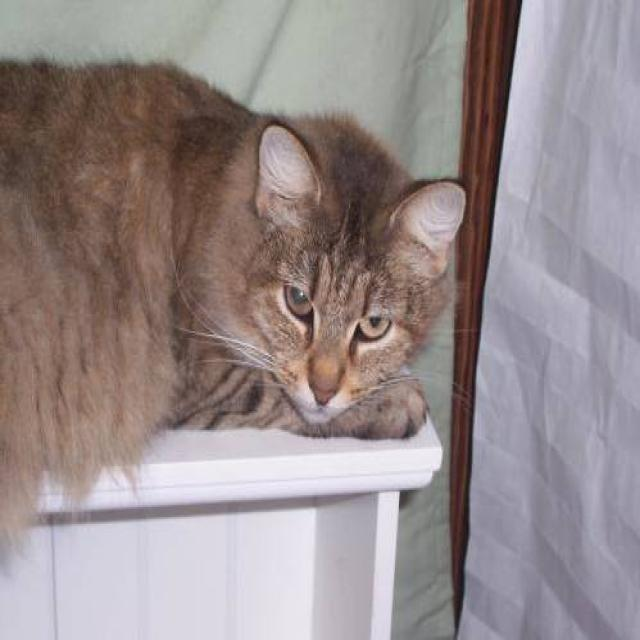cat: (0, 53, 467, 577)
